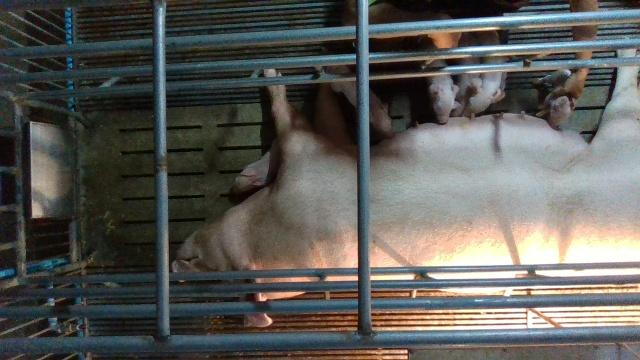piglet: (328, 66, 395, 139), (461, 32, 507, 120), (531, 68, 578, 130), (421, 62, 460, 125)
sow-sleep-lactate: (172, 36, 640, 329)
